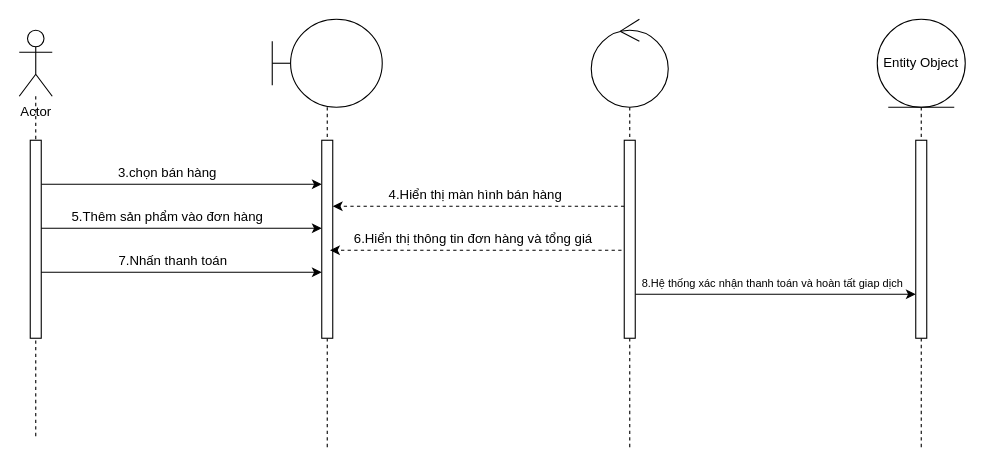
The diagram is 985 pixels wide and 469 high, and some of its shapes have lost their labels. The centre of each missing label's shape, as x and y in pixels:
Boundary Object: the point at 326,62
Control Object: the point at 629,62
